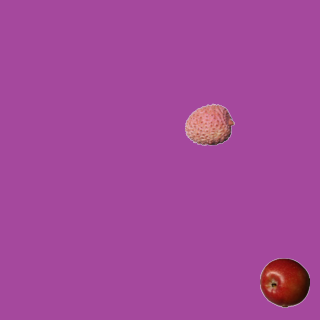Apple Braeburn: (259, 257, 309, 307)
Lychee: (184, 99, 234, 149)
